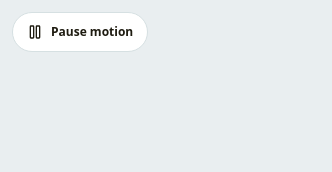
Test case: Sound and motion toggles › 'Pause motion' pauses every looping animation and is remembered
Later steps or results of the test are not shown.
Click the button with aria-label "Pause animations": point(80, 32) [12,12,148,52]
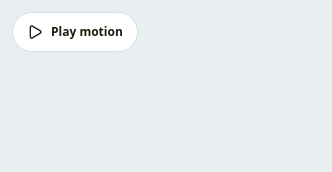
Expected: the text "Play motion" is shown, [51,24,123,40]
